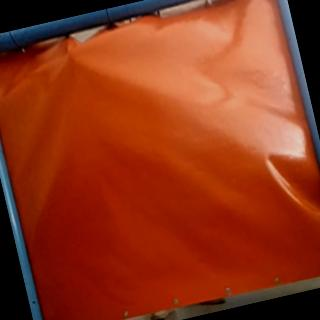Hit-hRxx: (60, 44, 78, 62)
